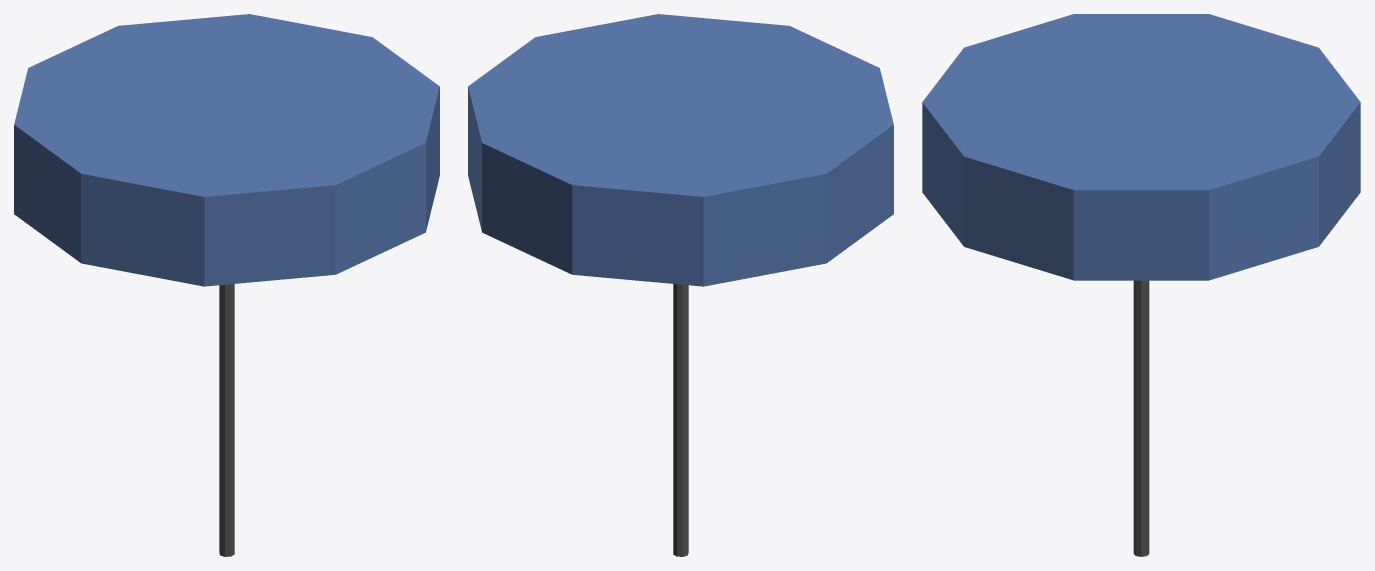
The model's file is cafe_umbrella.glb.
3 renders of one model, left to right at view 1: azimuth 30°, elevation 25°; view 2: azimuth 150°, elevation 25°; view 3: azimuth 270°, elevation 25°, orthographic.
Visible parts, largest first — view 1: umb_canopy, umb_pole; view 2: umb_canopy, umb_pole; view 3: umb_canopy, umb_pole.
Boxes of the visible parts, x1=… form: umb_canopy: x1=14, y1=14, x2=439, y2=286; umb_pole: x1=219, y1=284, x2=234, y2=556; umb_canopy: x1=468, y1=14, x2=893, y2=286; umb_pole: x1=673, y1=284, x2=688, y2=556; umb_canopy: x1=922, y1=14, x2=1360, y2=280; umb_pole: x1=1133, y1=280, x2=1149, y2=556.
Bounding box in the file's own units: 2.09 × 2.5 × 2.2.
